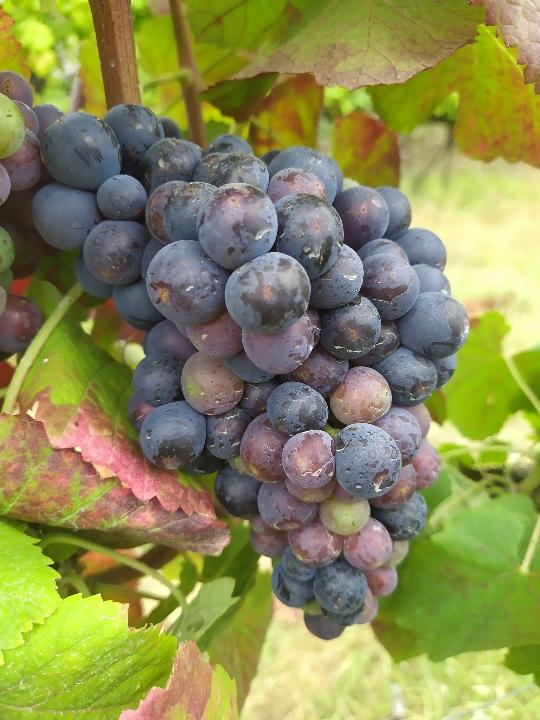grape: (30, 95, 472, 644)
